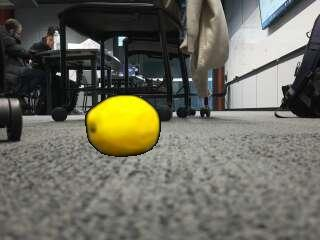lemon: (86, 96, 159, 156)
